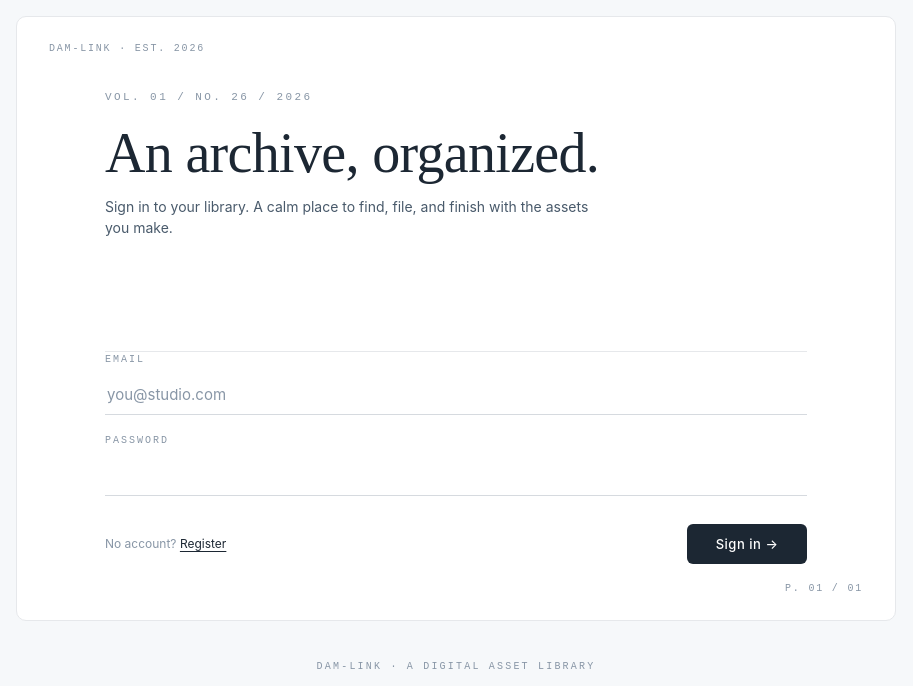
Test: LoginScreen client-side validation (T3) › blocks submit on empty password
In the field labelled "Email": (456, 395) 105,375 -> 807,415, type "me@studio.com"
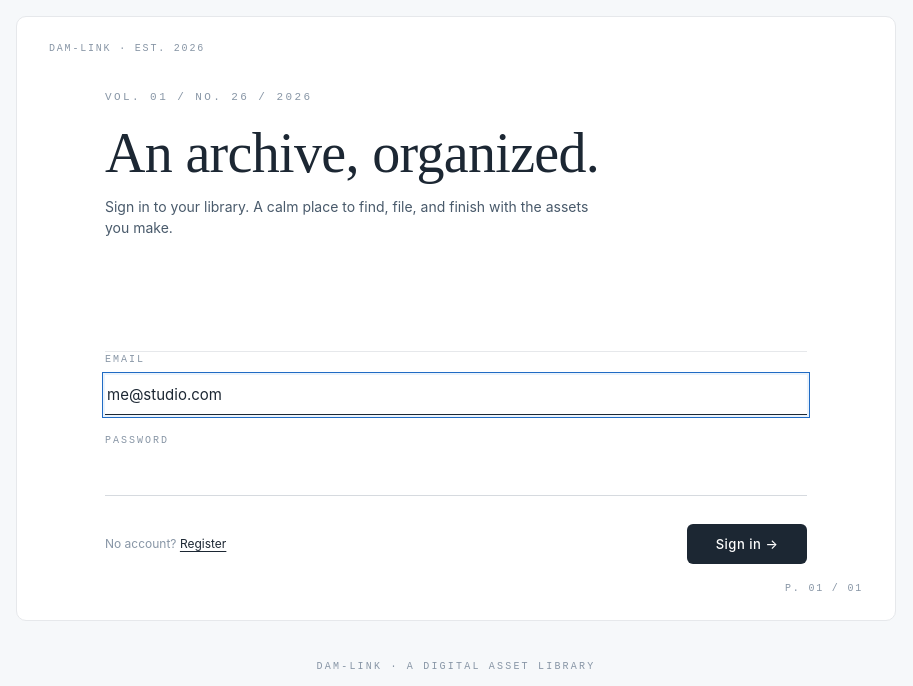
Click the button "Sign in →": click(747, 544) 687,524 -> 807,564
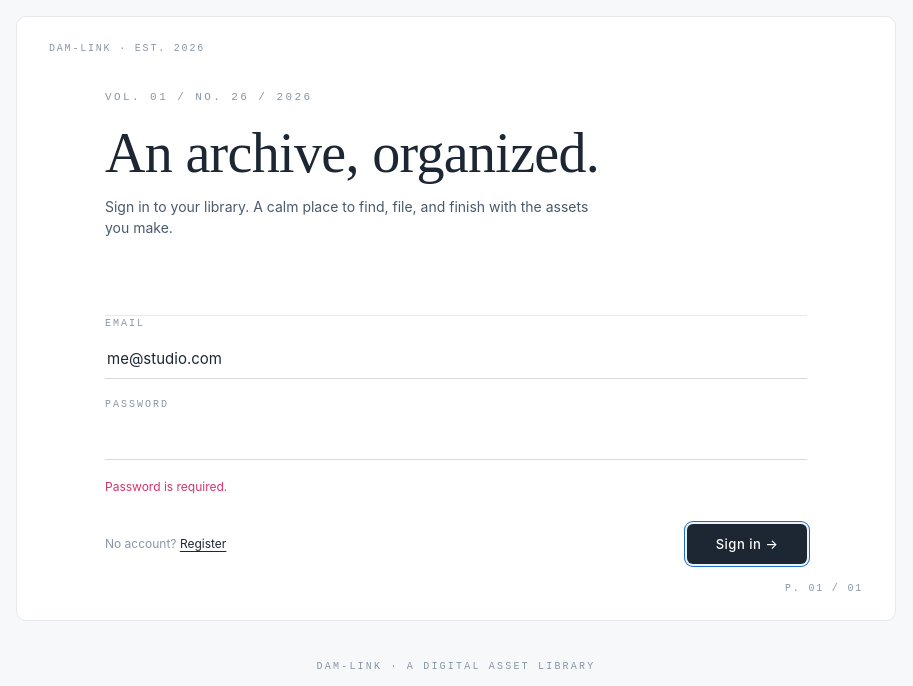
expect the message shows "Password is required": met, box 105,479 -> 227,494
